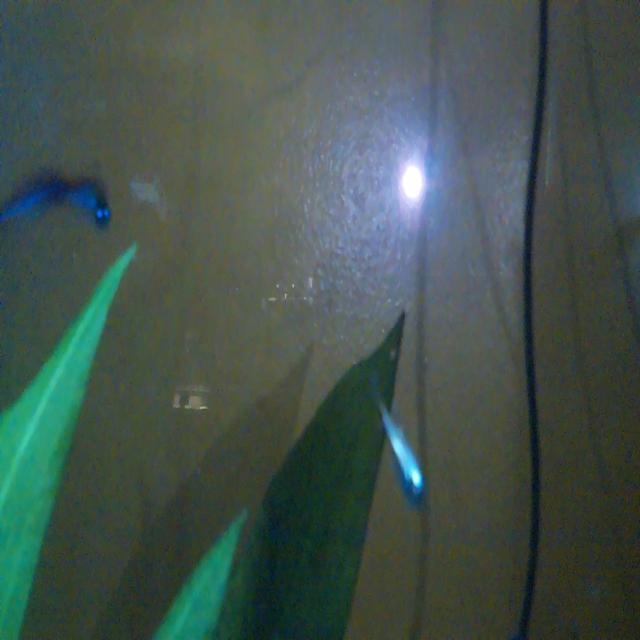fish: (375, 396, 427, 509)
